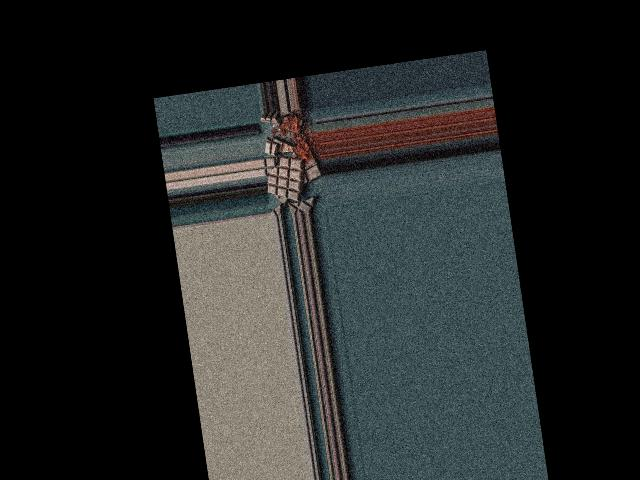chocolate: (263, 154, 308, 206)
